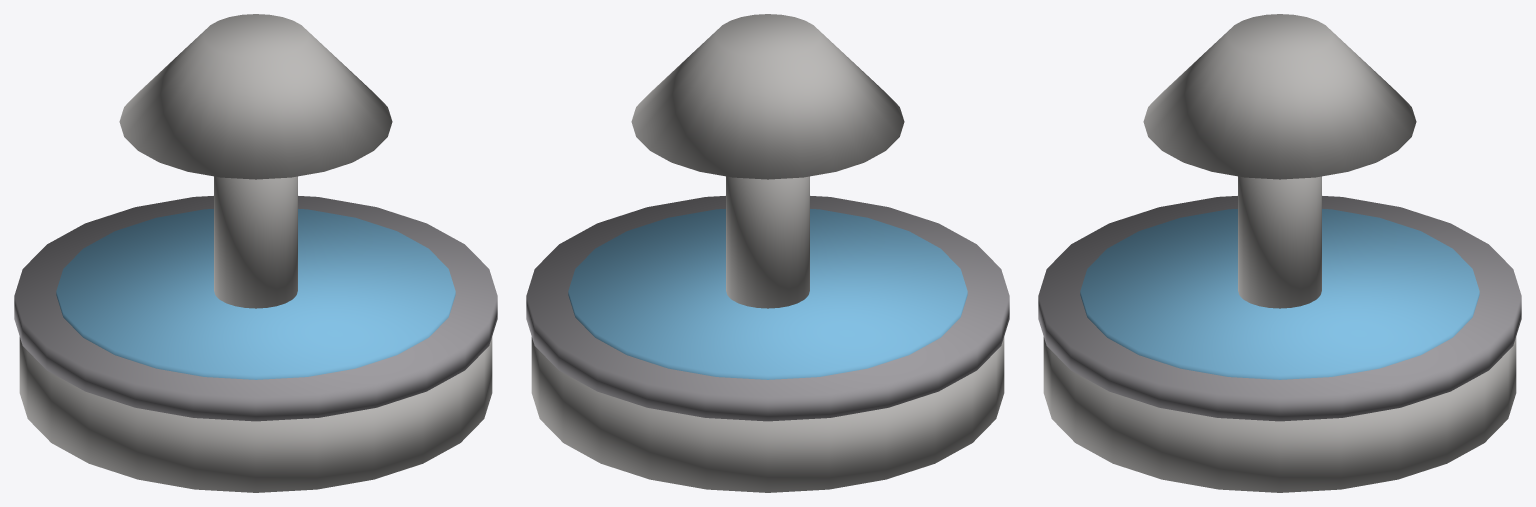
Rendered from fountain.glb.
3 renders of one model, left to right at view 1: azimuth 30°, elevation 25°; view 2: azimuth 150°, elevation 25°; view 3: azimuth 270°, elevation 25°, orthographic.
Parts seen in each view (by area): view 1: Cylinder; view 2: Cylinder; view 3: Cylinder.
Part boxes in pixels (x1,y1,x2,y2): Cylinder: (14, 14, 497, 492); Cylinder: (526, 14, 1009, 492); Cylinder: (1038, 14, 1521, 492).
Bounding box in the file's own units: 0.92 × 0.75 × 0.92.
